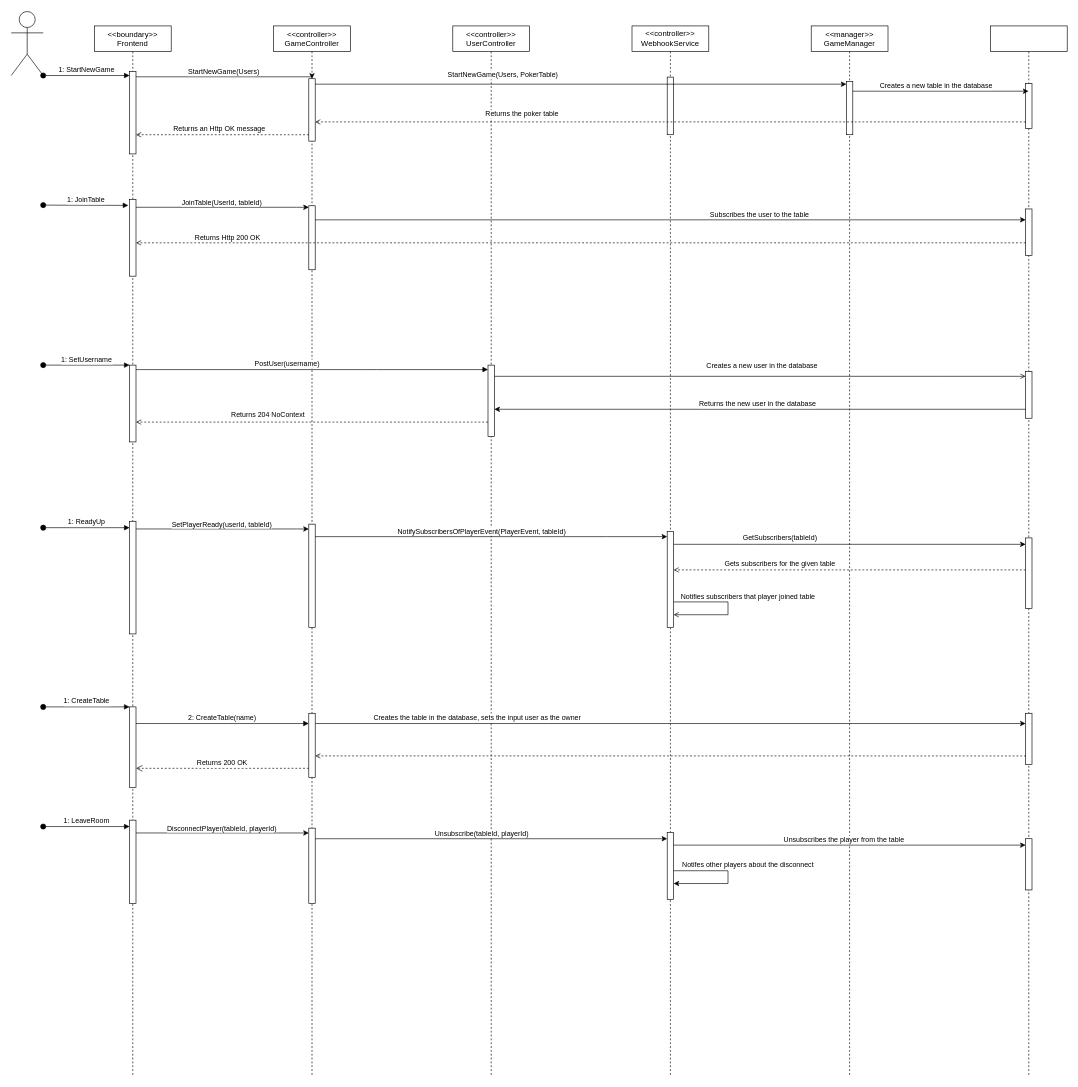
The diagram is 1078 pixels wide and 1087 high, and some of its shapes have lost their labels. The shapes that lost their labels are listed below. From the top down, each one's box as (x1, y1, x2, y2) in pixels, then its label:
(11, 11, 43, 76): User
(990, 25, 1067, 1076): <<entity>> DataLayer
